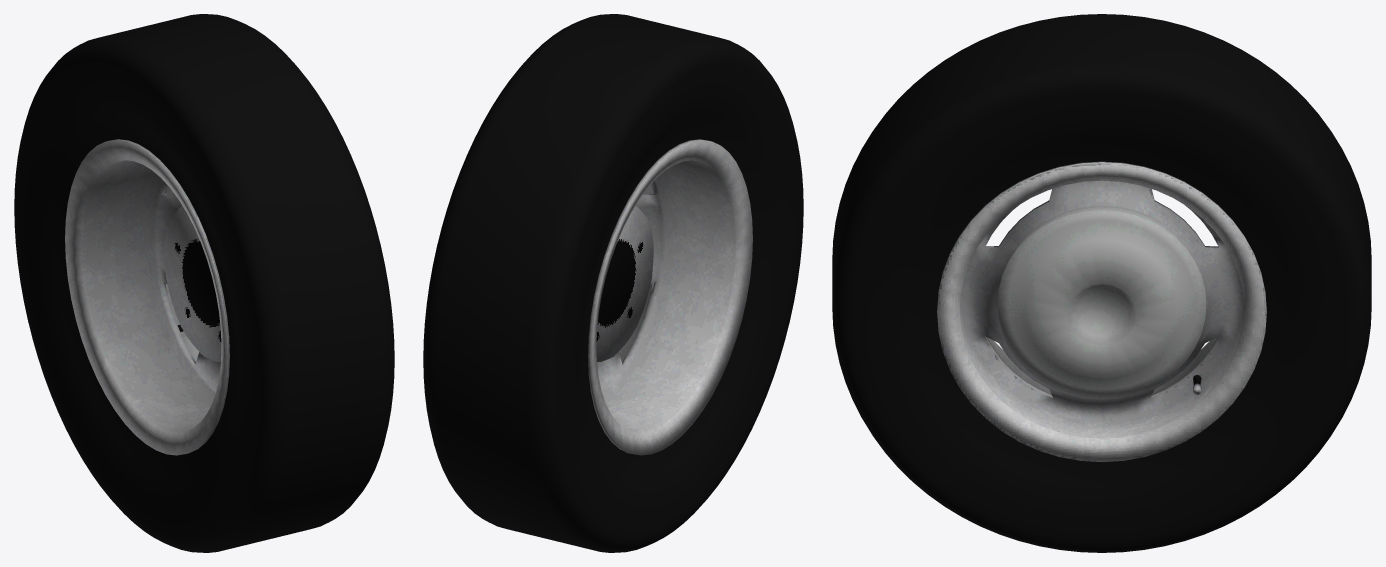
Rendered from gaz_24_24_volga_wheel_front_right.glb.
3 views of the same model, side by side, from view 1: azimuth 30°, elevation 25°; view 2: azimuth 150°, elevation 25°; view 3: azimuth 270°, elevation 25° (orthographic). The views are drawn at different scales.
Visible parts, largest first — view 1: GAZ24_Wheel_front_right; view 2: GAZ24_Wheel_front_right; view 3: GAZ24_Wheel_front_right.
Part boxes in pixels (x1,y1,x2,y2): GAZ24_Wheel_front_right: (14, 14, 394, 552); GAZ24_Wheel_front_right: (423, 14, 803, 552); GAZ24_Wheel_front_right: (832, 14, 1371, 552).
Bounding box in the file's own units: 0.185 × 0.6516 × 0.6516.
1 material, 1 textured.
